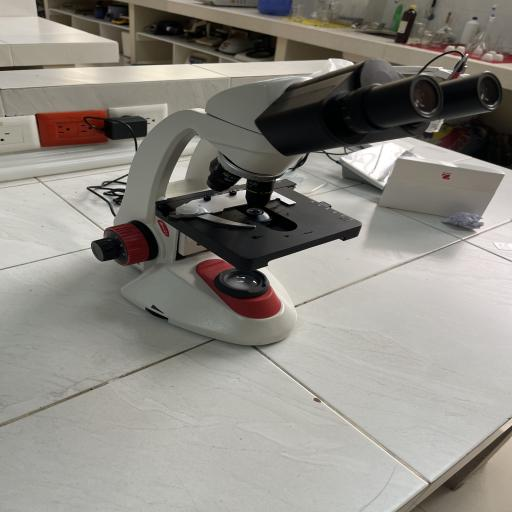Microscopio_Binocular: (89, 51, 512, 350)
